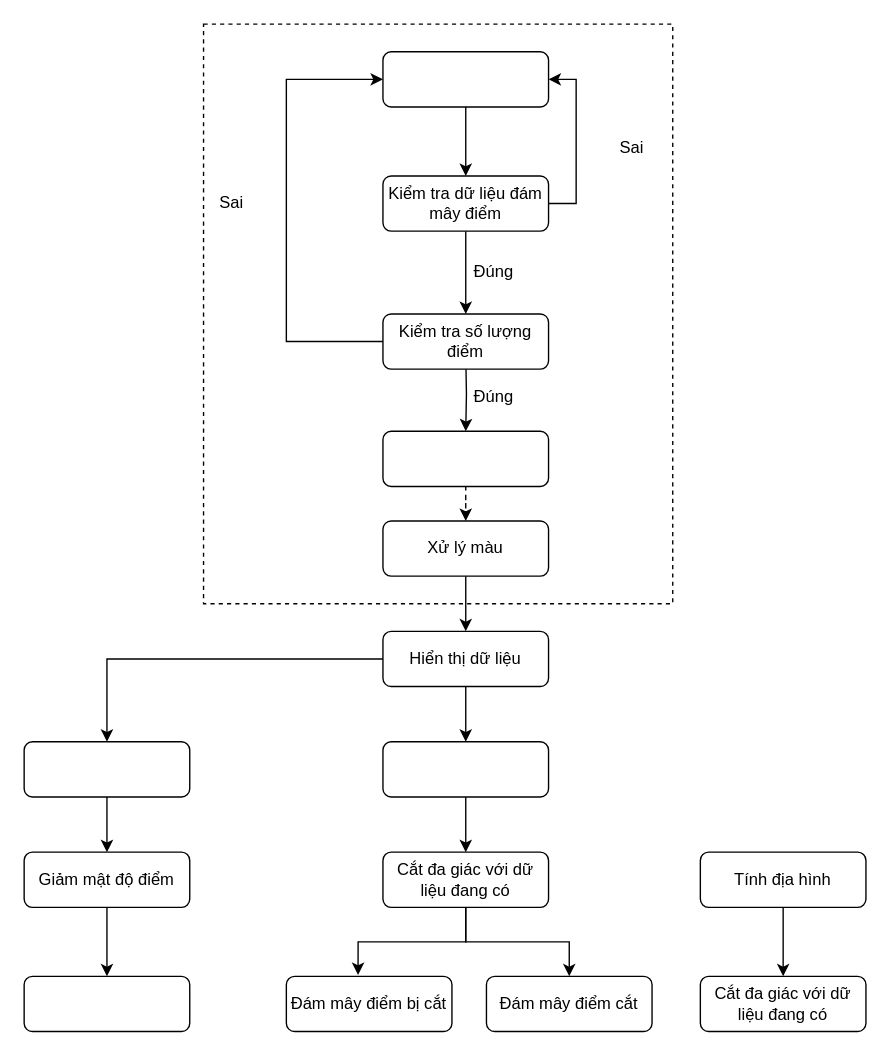
Some shapes in this 890 by 1056 pixel diagram are drawn without their labels. Each missing label, with the centre of its shape:
"Chuyển định dạng dữ liệu" goes at point 465,458.
"Chọn kích thước voxel" goes at point 106,768.
"Nhập dữ liệu" goes at point 465,78.
"Vẽ đa giác" goes at point 465,768.
"Đám mây điểm giảm mật độ" goes at point 106,1003.
